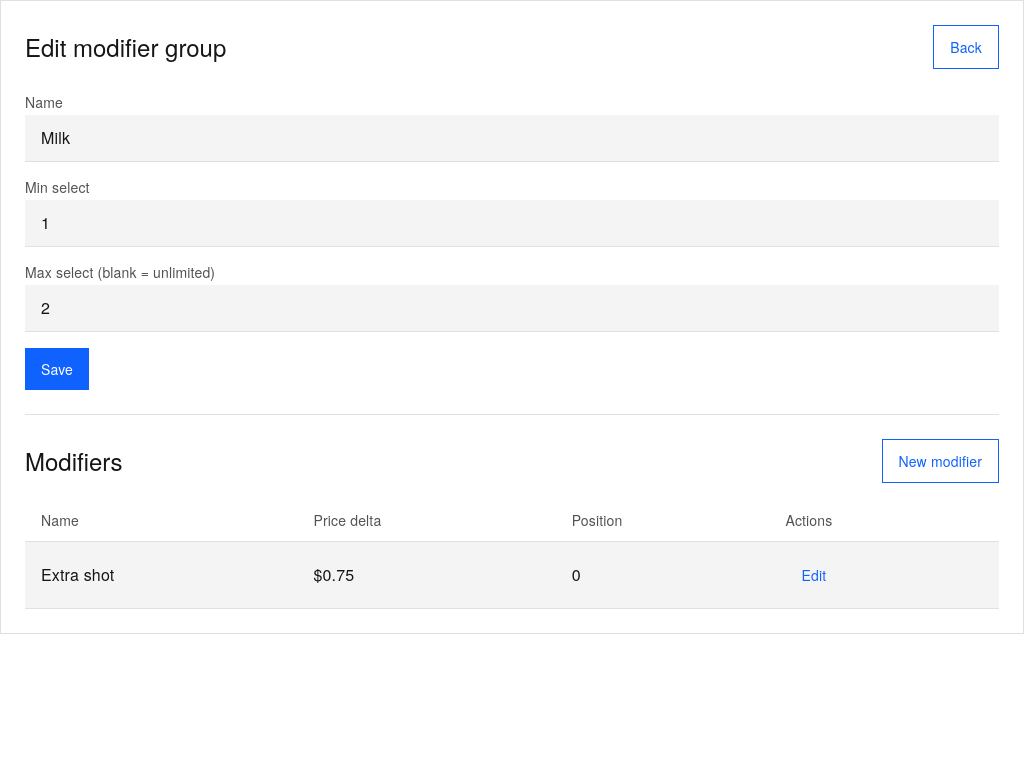
Test: ModifierGroupEditor › nested ModifierForm archive confirm › cancelling the archive ConfirmDialog blocks the save
Click the button "Edit" at (814, 575), box [786, 554, 842, 596]
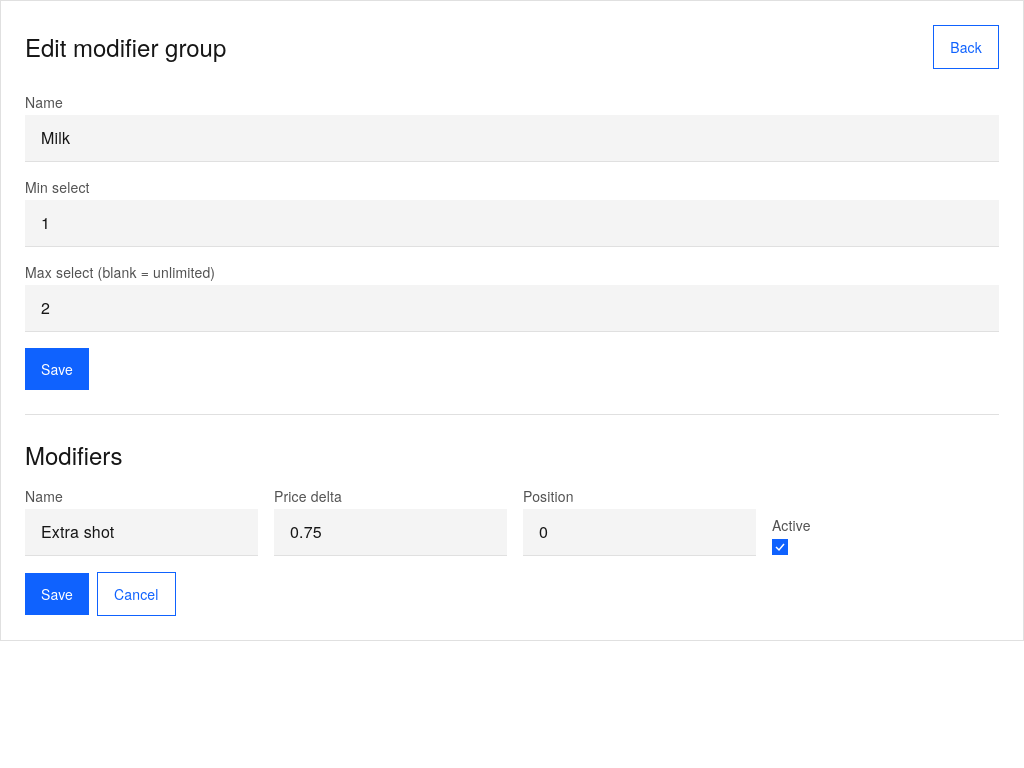
Click the checkbox named "active" at (780, 547), box [772, 539, 788, 555]
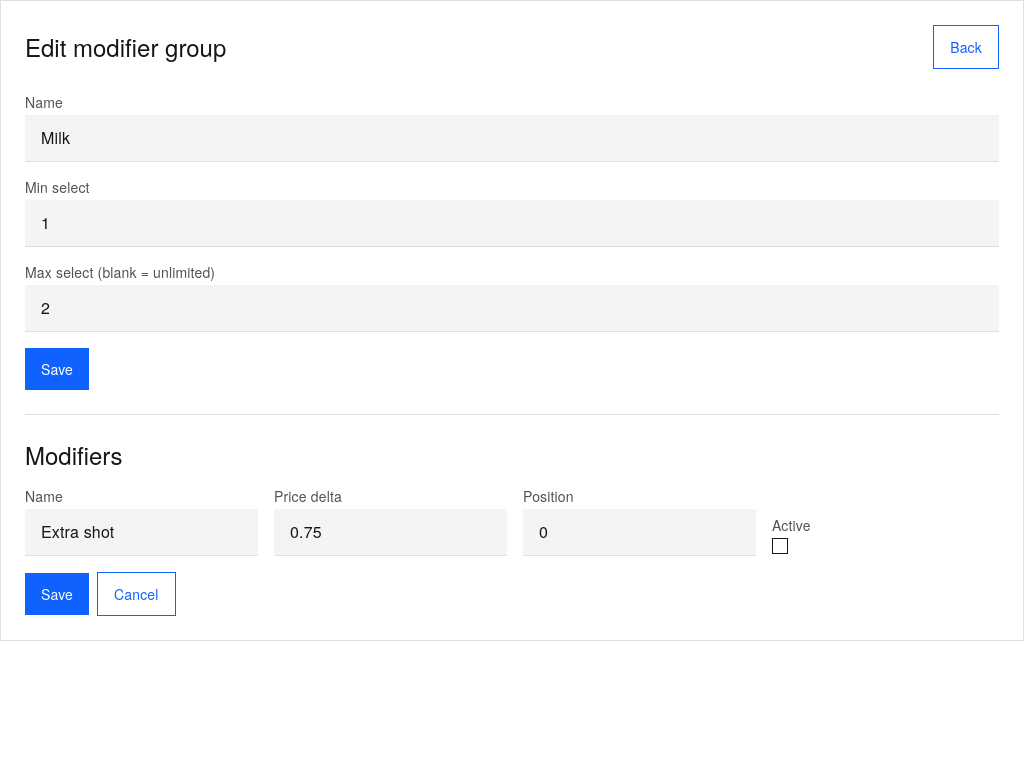
Click the button "Save" below "Price delta" at (57, 594), box [25, 573, 89, 615]
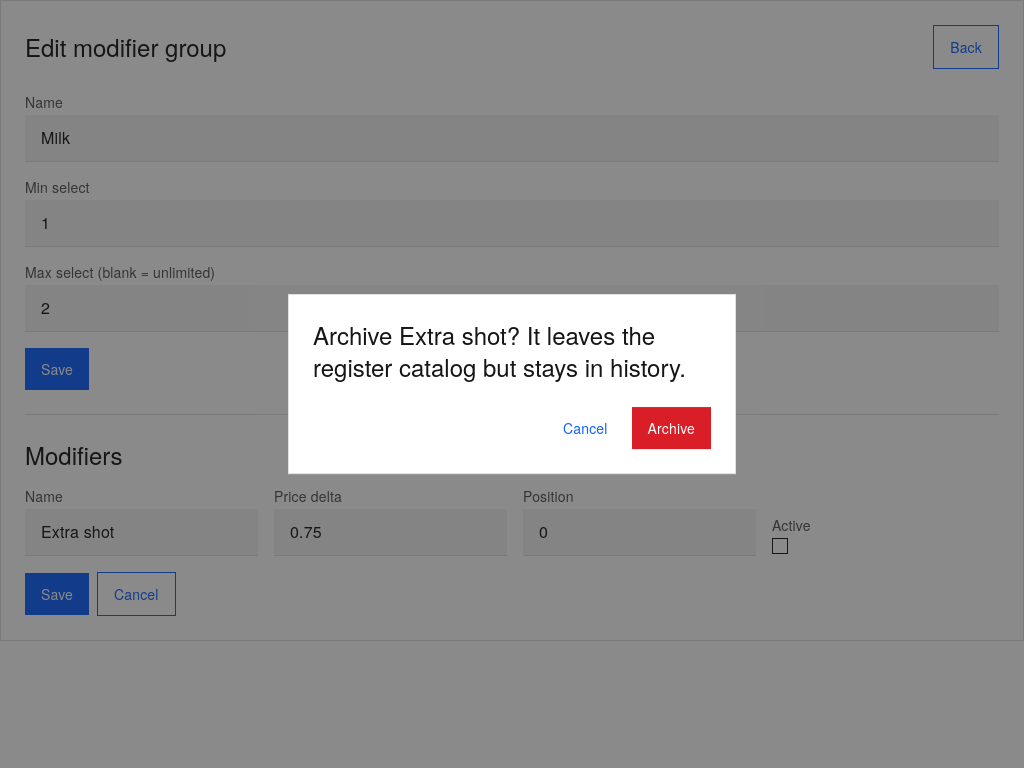
Check: the heading "Archive Extra shot? It leaves the register catalog but stays in history." is shown, box [313, 319, 711, 383]
Click the button "Cancel" at (585, 428), box [547, 407, 624, 449]
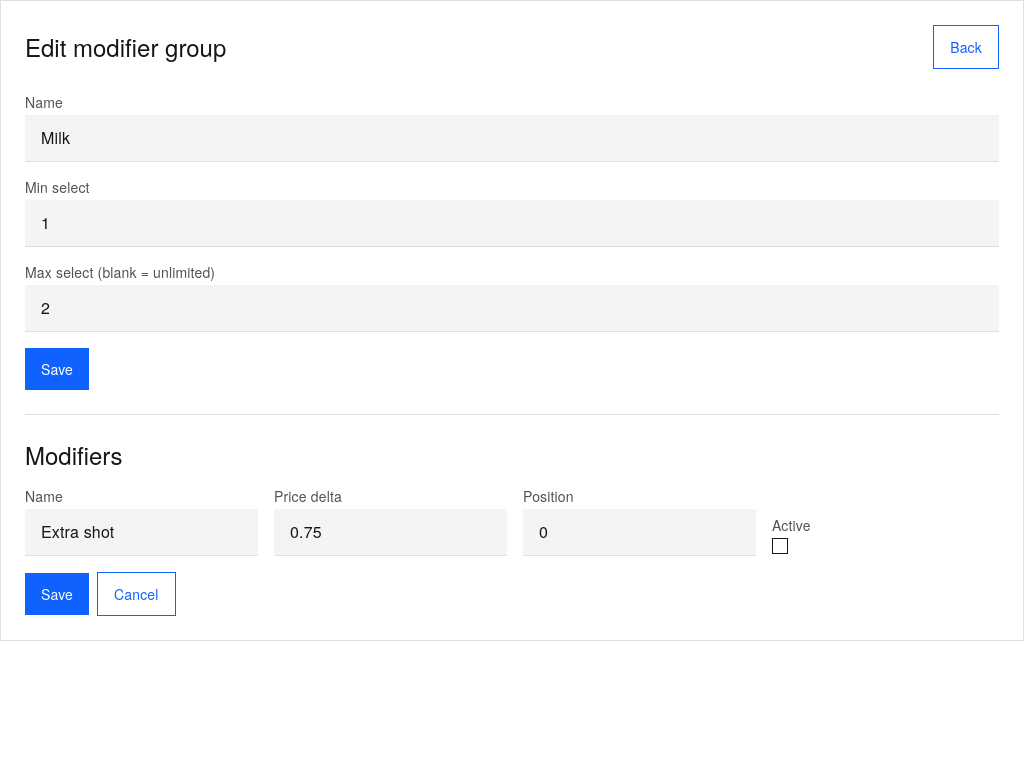
Check: the dialog is gone
